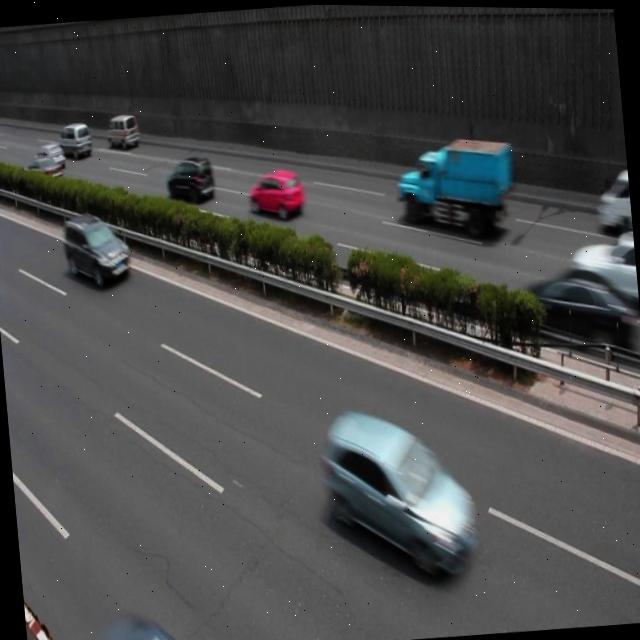bus: (389, 136, 518, 235)
car: (317, 400, 480, 583), (512, 256, 638, 358), (566, 226, 640, 313), (61, 209, 132, 290), (245, 164, 304, 224), (164, 155, 214, 207), (23, 154, 62, 189), (33, 138, 65, 171)
truck: (591, 168, 633, 236), (104, 110, 140, 151), (56, 118, 91, 160)
